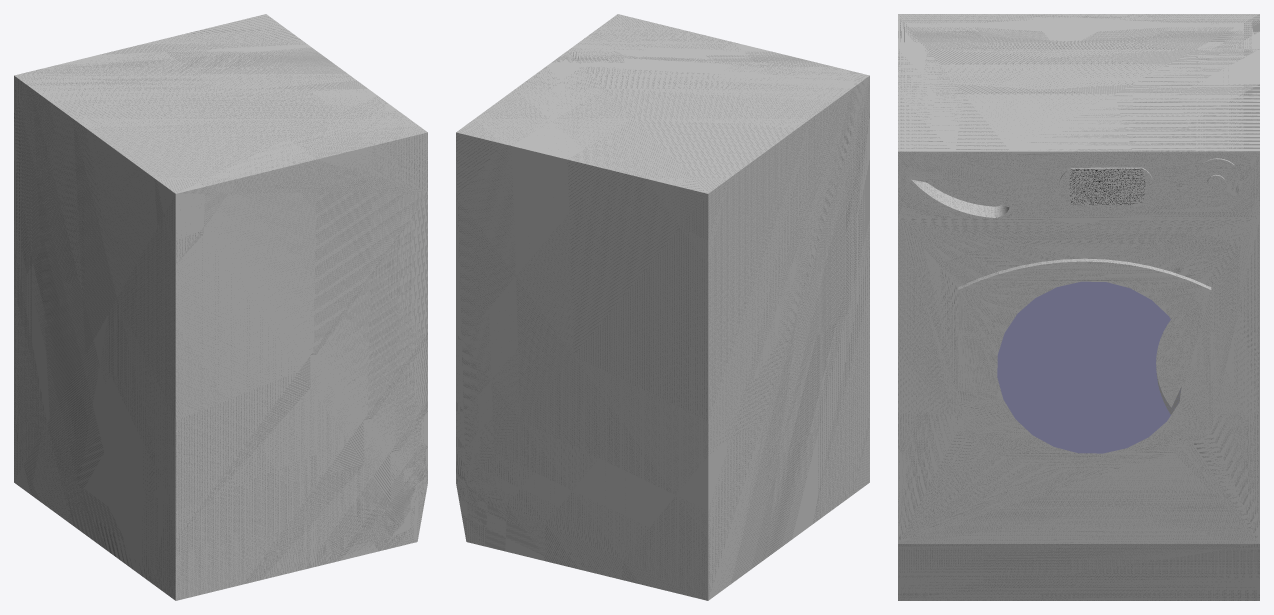
The picture shows the model from 3 angles, left to right: view 1: azimuth 30°, elevation 25°; view 2: azimuth 150°, elevation 25°; view 3: azimuth 270°, elevation 25°; orthographic projection. The views are drawn at different scales.
Visible parts, largest first — view 1: mesh9_mesh9-geometry; view 2: mesh9_mesh9-geometry; view 3: mesh9_mesh9-geometry.
Boxes of the visible parts, x1,y1,x2,y2 form: mesh9_mesh9-geometry: (14,14,427,600); mesh9_mesh9-geometry: (456,14,869,600); mesh9_mesh9-geometry: (898,14,1259,600).
Size of the model in its own units: 0.4729 by 0.7149 by 0.5151.
